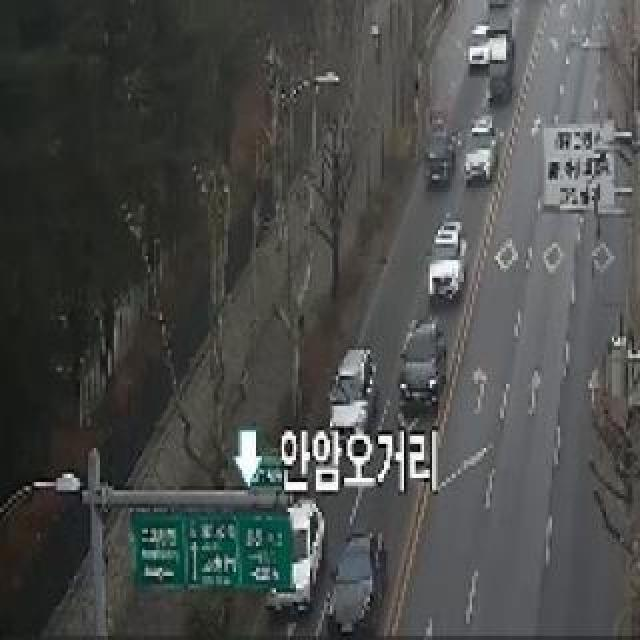truck: (485, 1, 517, 121), (520, 0, 550, 4)
